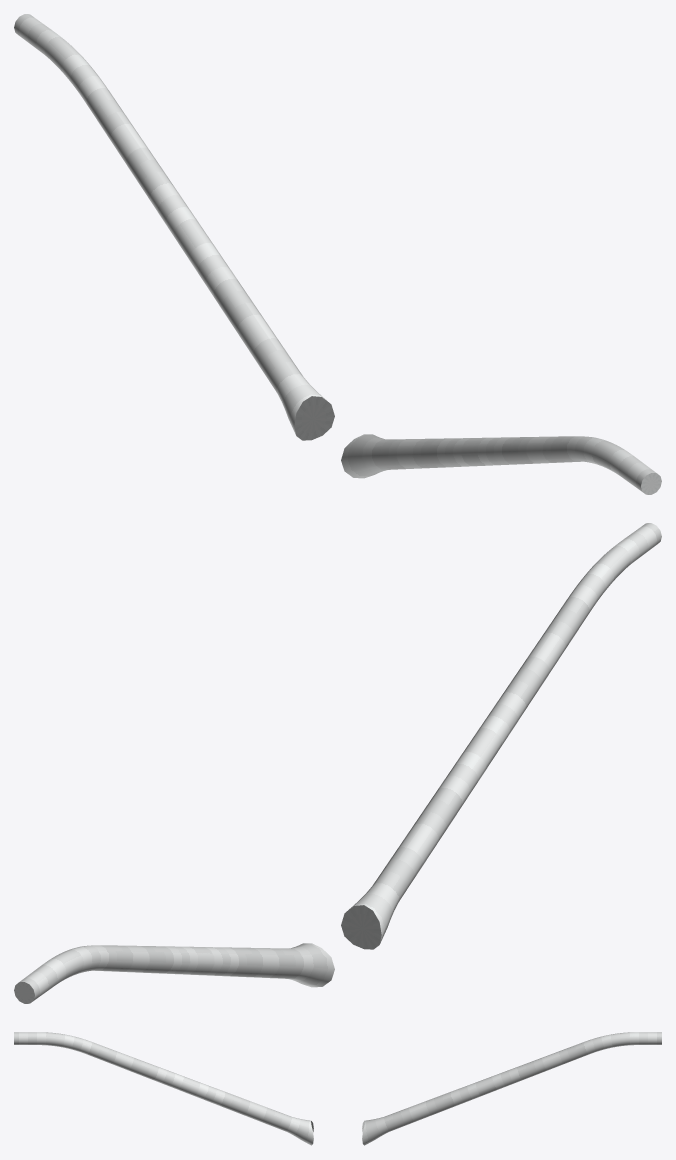
The model's file is luminairearm_caltrans10ftstraightdouble_inv.obj.
The picture shows the model from 3 angles, top to bottom: view 1: azimuth 30°, elevation 25°; view 2: azimuth 150°, elevation 25°; view 3: azimuth 270°, elevation 25°; orthographic projection. The views are drawn at different scales.
Parts seen in each view (by area): view 1: luminairearm_caltrans10ftstraightdouble_inv; view 2: luminairearm_caltrans10ftstraightdouble_inv; view 3: luminairearm_caltrans10ftstraightdouble_inv.
Part boxes in pixels (x1,y1,x2,y2): luminairearm_caltrans10ftstraightdouble_inv: [14, 14, 661, 494]; luminairearm_caltrans10ftstraightdouble_inv: [14, 523, 661, 1003]; luminairearm_caltrans10ftstraightdouble_inv: [14, 1032, 661, 1145].
Bounding box in the file's own units: 0.0375 × 0.1903 × 1.
